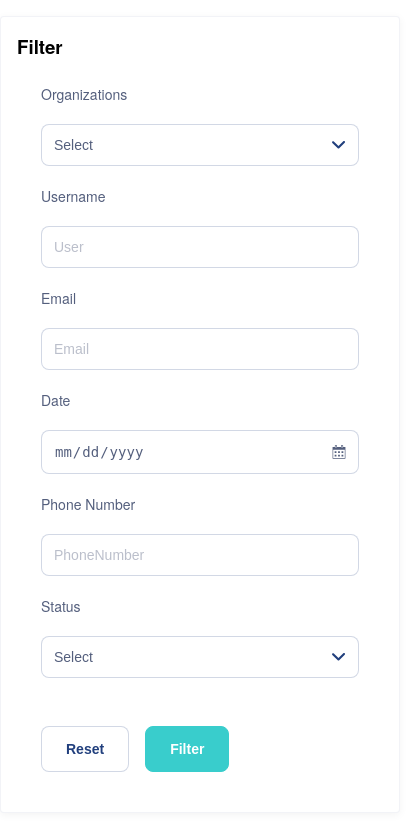
Test case: TableFilter Component › resets form when Reset is clicked
In the field with placeholder "User": (200, 247) [41,226,359,268], type "john"
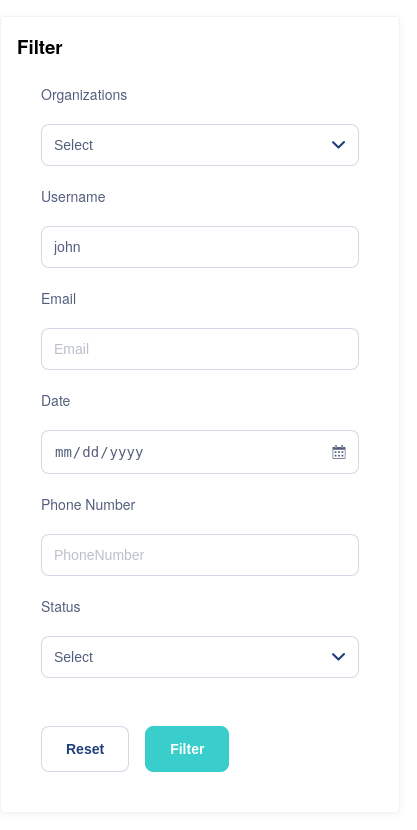
Click the button "Reset": click(85, 749) [41,726,129,772]
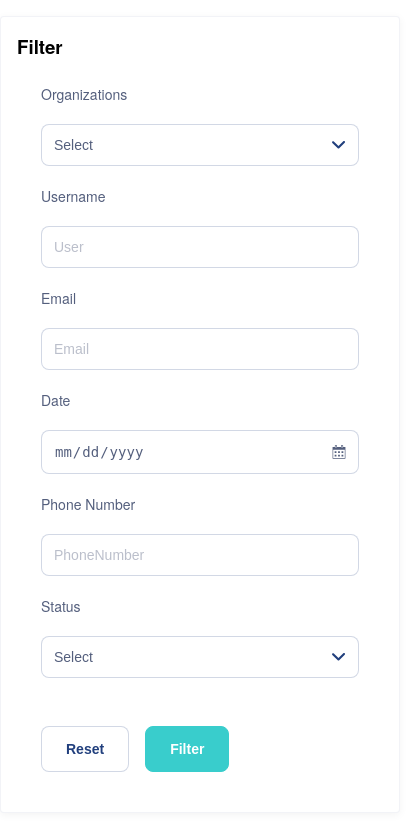
Check: the field with placeholder "User" is empty, box [41,226,359,268]
